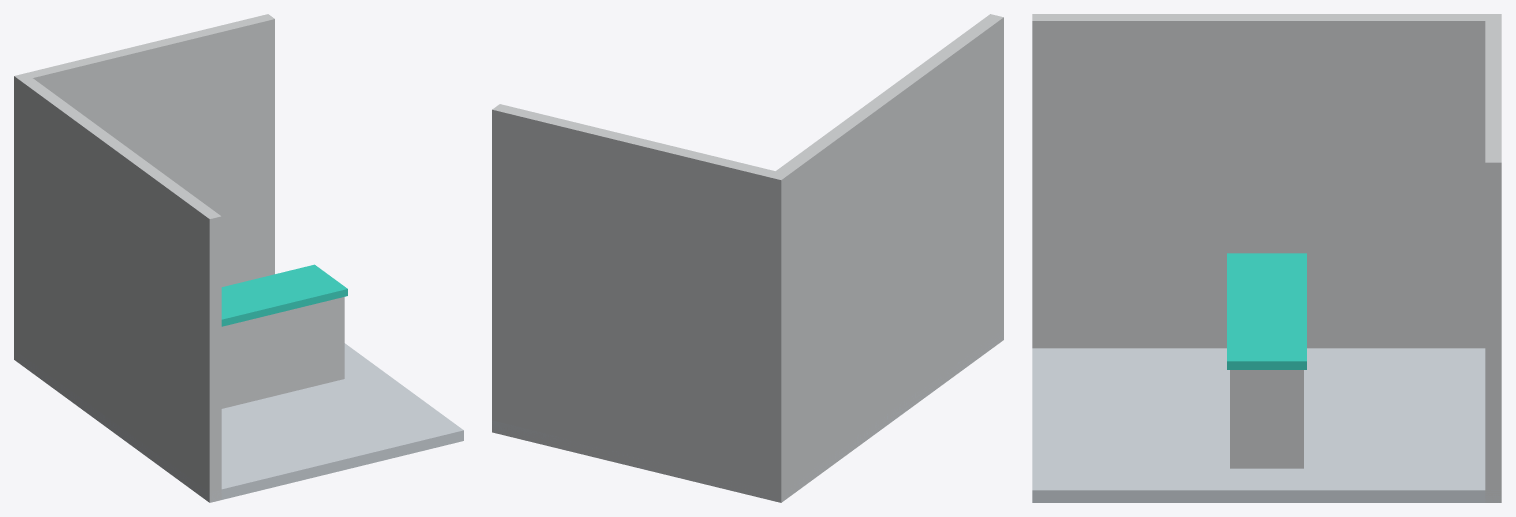
The picture shows the model from 3 angles, left to right: view 1: azimuth 30°, elevation 25°; view 2: azimuth 150°, elevation 25°; view 3: azimuth 270°, elevation 25°; orthographic projection. The views are drawn at different scales.
Visible parts, largest first — view 1: Exhibition Booth Concept; view 2: Exhibition Booth Concept; view 3: Exhibition Booth Concept.
Boxes of the visible parts, box(x1,y1,x2,y2) form: Exhibition Booth Concept: box(14, 14, 463, 502); Exhibition Booth Concept: box(492, 14, 1003, 502); Exhibition Booth Concept: box(1032, 14, 1501, 502).
Bounding box in the file's own units: 3 × 3.2 × 4.
